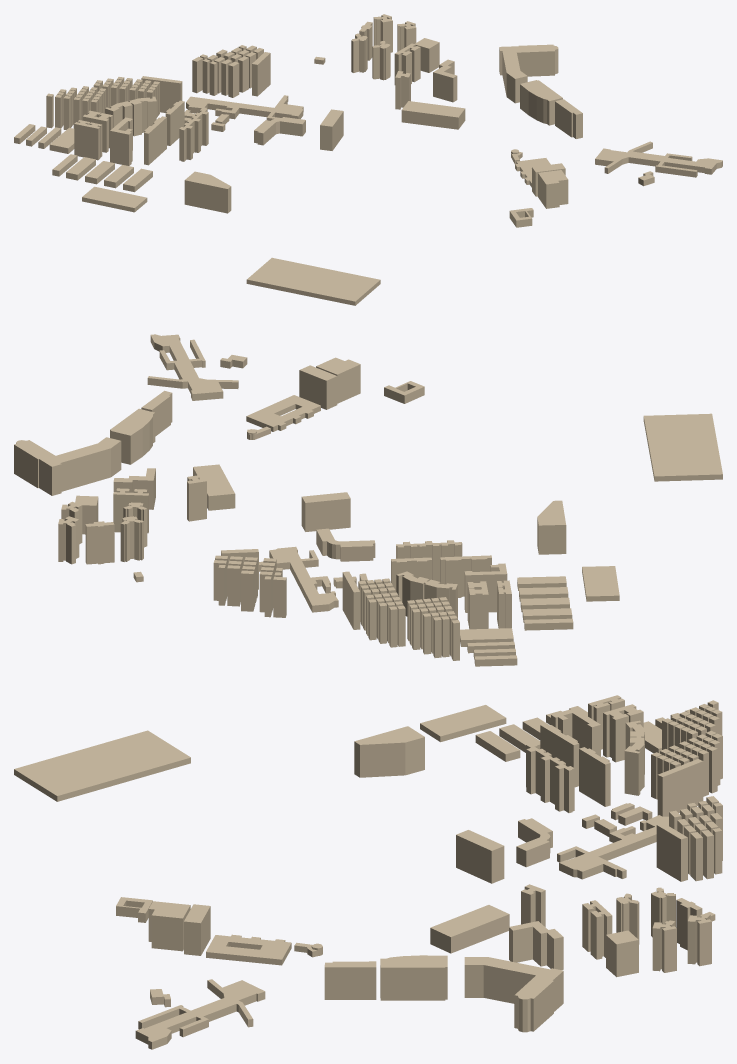
The model's file is -16_6-estimated-coarse.glb.
3 views of the same model, one above another, from view 1: azimuth 30°, elevation 25°; view 2: azimuth 150°, elevation 25°; view 3: azimuth 270°, elevation 25° (orthographic). The views are drawn at different scales.
Bounding box in the file's own units: 1130 × 66 × 998.
